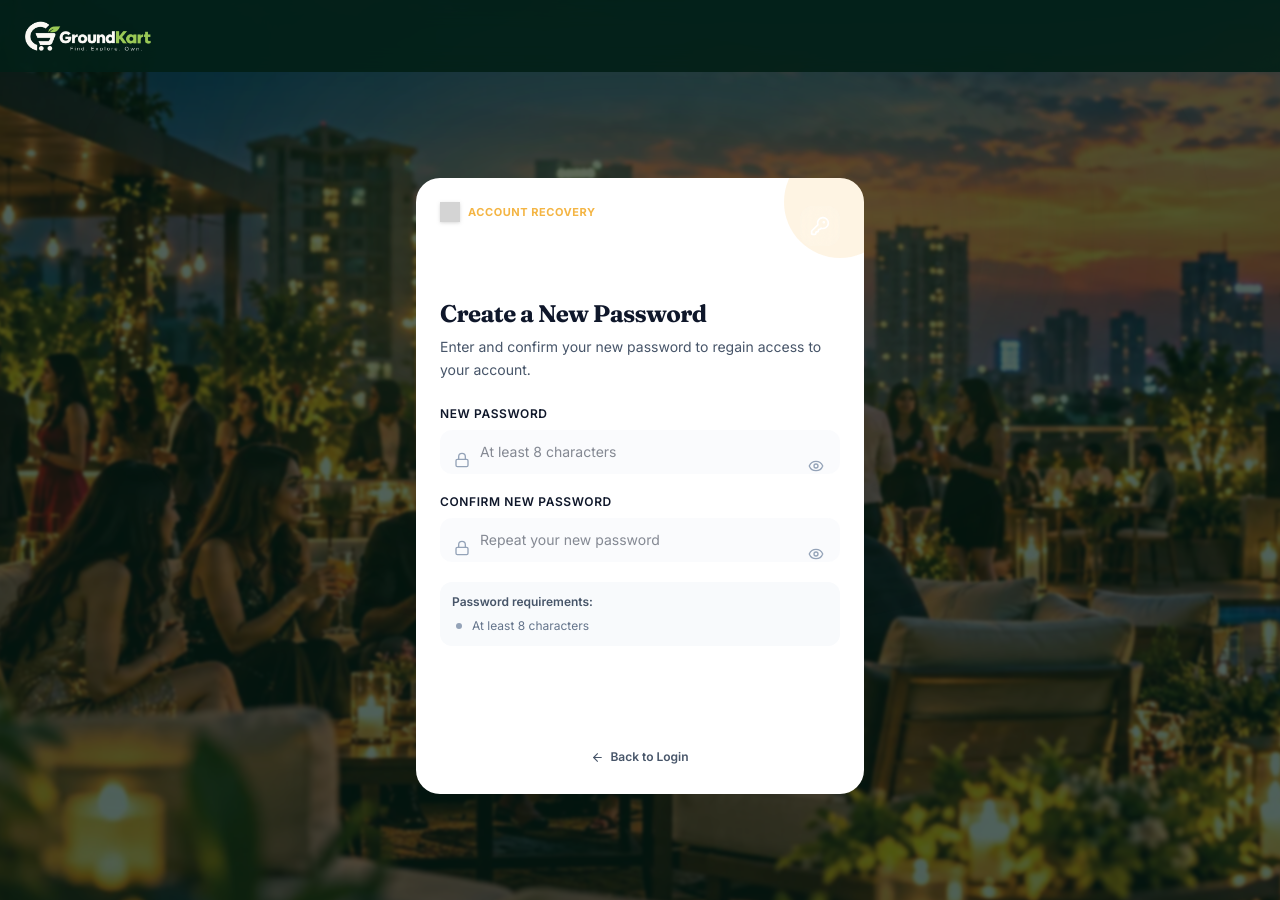
Test: ResetPassword component › validates minimum 8 characters and displays warning
In the password field labelled "New Password": [640, 452] box [440,430,840,474], type "short"
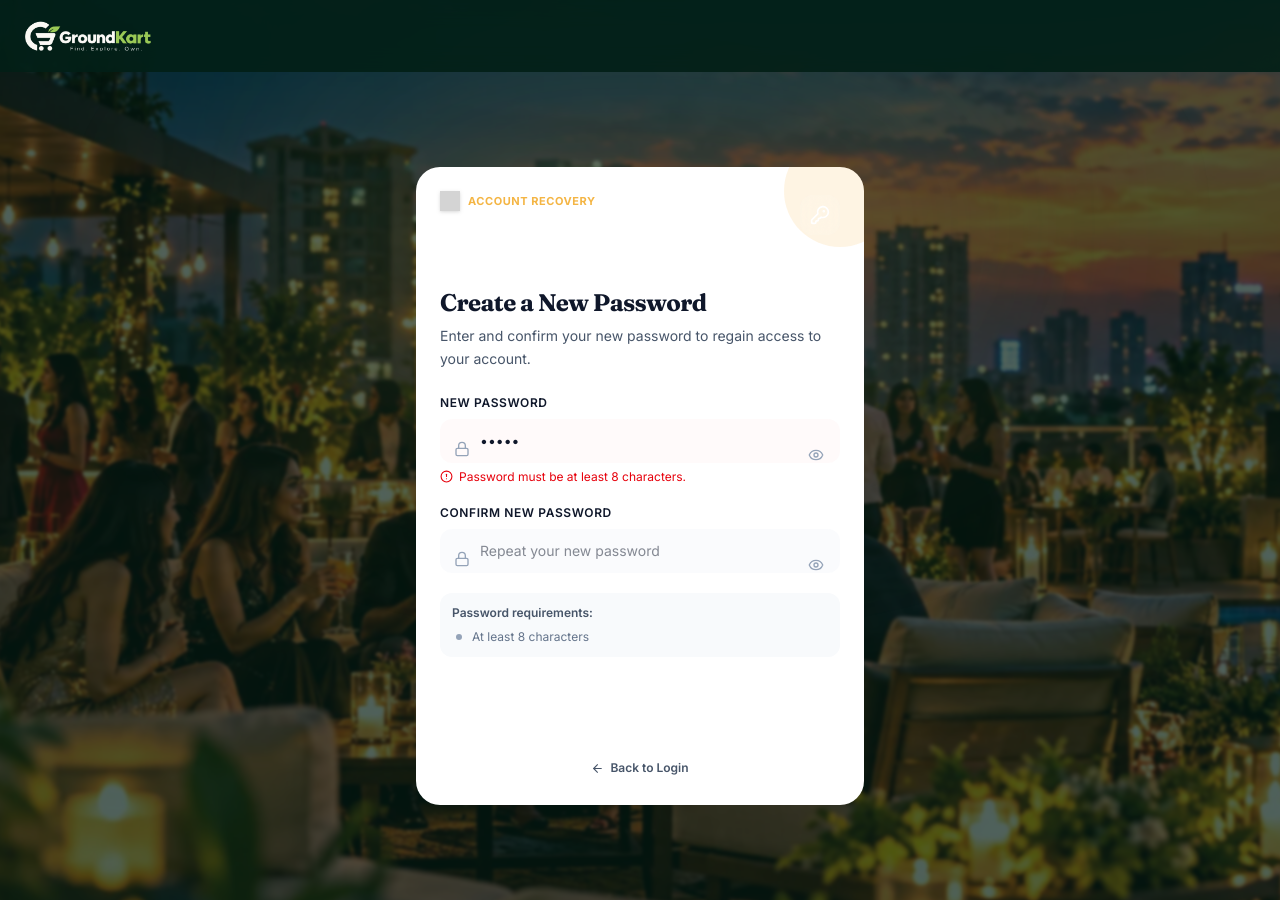
Check: the text "Password must be at least 8 characters." is shown, box [459,469,686,485]
